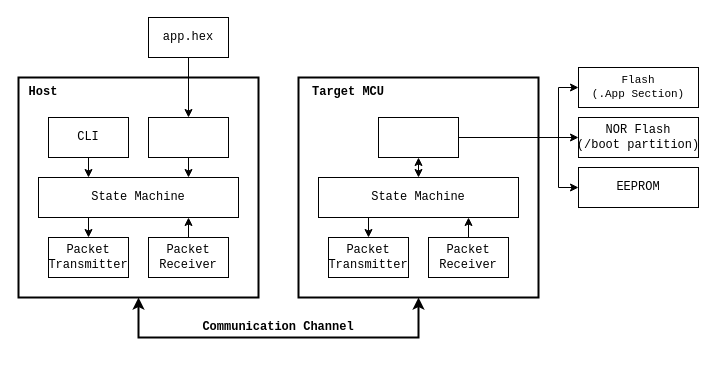
Image size: 716x365. Some labels were removed from this diagram. The shapes that lost their labels are listed below. From the top down, each one's centre as x and y in pixels, then its label:
the point at 188,137: HEX parser
the point at 418,137: Command Executor
